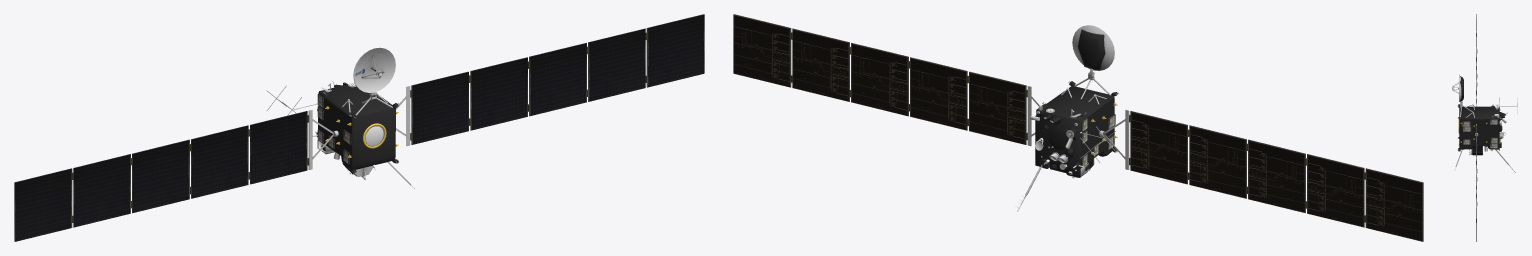
File: rosetta.glb
3 renders of one model, left to right at view 1: azimuth 30°, elevation 25°; view 2: azimuth 150°, elevation 25°; view 3: azimuth 270°, elevation 25°, orthographic. The views are drawn at different scales.
Parts seen in each view (by area): view 1: panels_02, panels_01, Rosetta, dish, vents, foil_silver; view 2: panels_02, panels_01, Rosetta, dish, vents; view 3: Rosetta, dish, vents, panels_01, panels_02, vents.004, foil_gold.
Boxes of the visible parts, bbox=[...] form: panels_02: bbox=[14, 109, 338, 241]; panels_01: bbox=[396, 14, 704, 146]; Rosetta: bbox=[316, 82, 398, 174]; dish: bbox=[266, 47, 415, 188]; vents: bbox=[317, 94, 351, 164]; foil_silver: bbox=[318, 126, 383, 153]; panels_02: bbox=[1099, 109, 1423, 241]; panels_01: bbox=[733, 14, 1039, 146]; Rosetta: bbox=[1035, 29, 1117, 177]; dish: bbox=[1015, 25, 1118, 211]; vents: bbox=[1081, 114, 1115, 166]; Rosetta: bbox=[1458, 76, 1505, 150]; dish: bbox=[1452, 74, 1517, 172]; vents: bbox=[1462, 119, 1498, 148]; panels_01: bbox=[1475, 124, 1478, 241]; panels_02: bbox=[1476, 14, 1477, 106]; vents.004: bbox=[1472, 146, 1482, 155]; foil_gold: bbox=[1458, 119, 1487, 142].
Bounding box in the file's own units: 31.96 × 6.92 × 4.55.
Materials: 11 (7 with a texture image).
